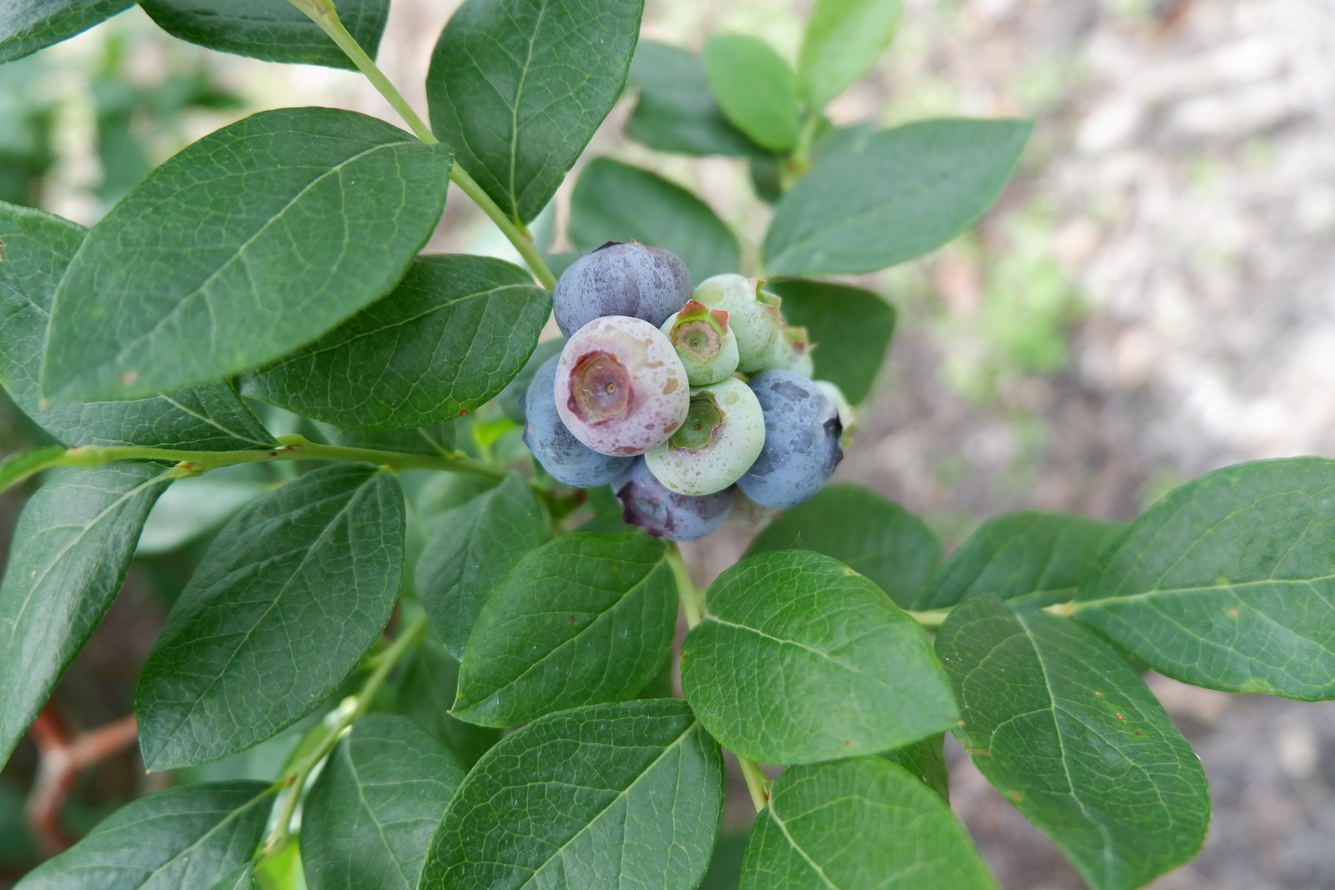Immature: (556, 320, 685, 453), (649, 382, 762, 492), (691, 273, 788, 373), (662, 304, 738, 384), (814, 382, 858, 452), (757, 328, 814, 377)
Mature: (523, 351, 631, 484), (742, 373, 843, 505), (553, 242, 690, 335), (614, 455, 733, 539)
